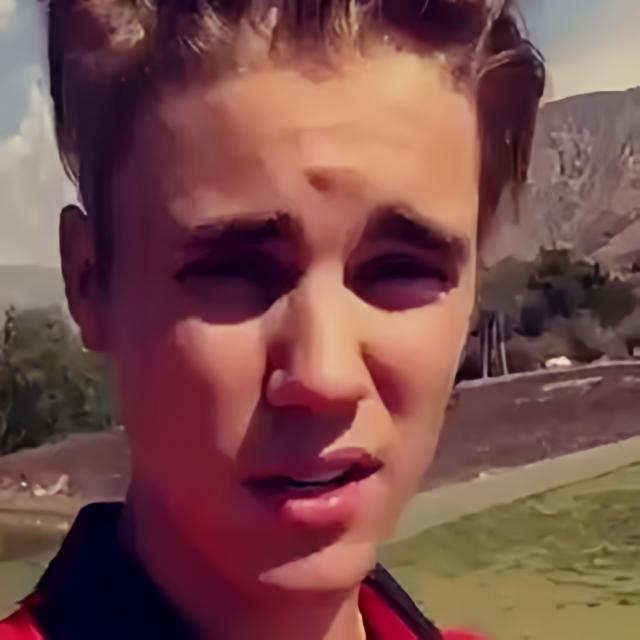disgust: (109, 36, 481, 594)
